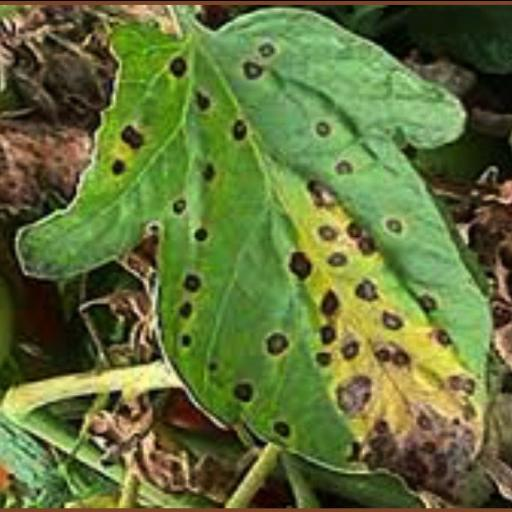disease_tomato: (15, 6, 499, 493)
